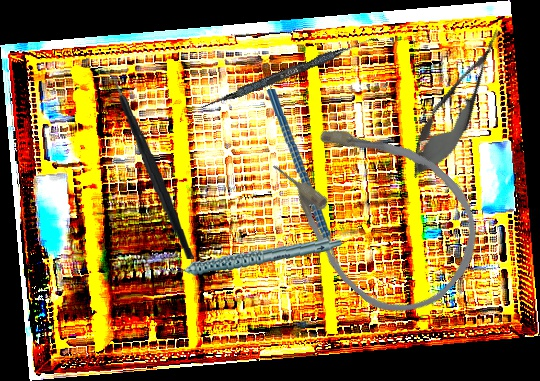Cannula: (247, 84, 506, 338)
Chopper: (94, 63, 197, 264), (265, 86, 361, 288)
Handpiece: (157, 226, 343, 287)
Micro Scissor: (398, 19, 518, 189)
Spatula Surgical: (200, 30, 379, 115)
